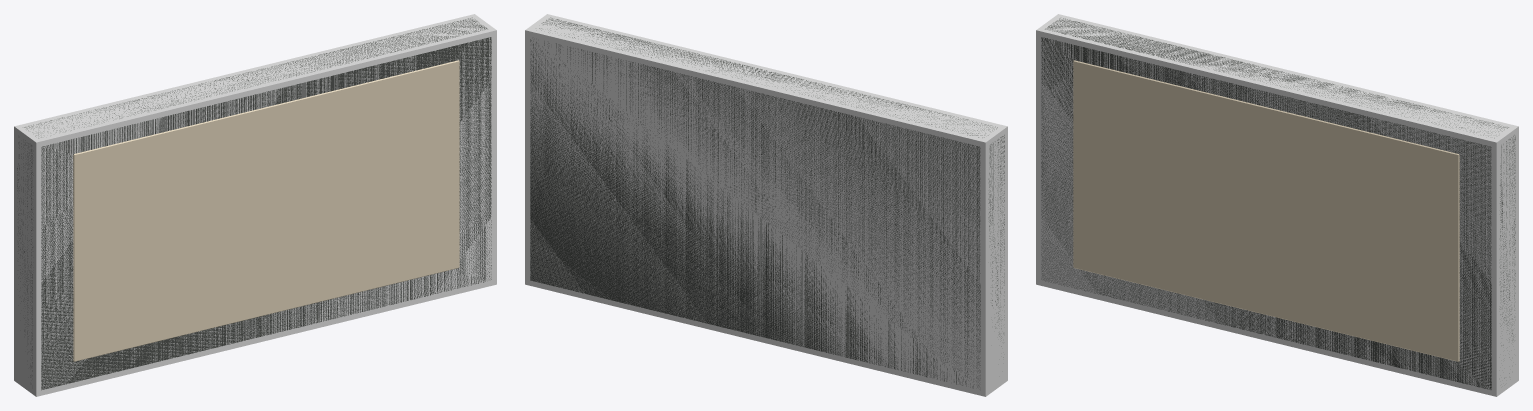
The model's file is signage_basic.glb.
The picture shows the model from 3 angles, left to right: view 1: azimuth 30°, elevation 25°; view 2: azimuth 150°, elevation 25°; view 3: azimuth 330°, elevation 25°; orthographic projection.
Parts seen in each view (by area): view 1: MESH_Inset, COL_signage, MESH_Frame; view 2: COL_signage, MESH_Frame; view 3: MESH_Inset, COL_signage, MESH_Frame.
Part boxes in pixels (x1=…): MESH_Inset: x1=73, y1=60, x2=459, y2=361; COL_signage: x1=14, y1=14, x2=496, y2=396; MESH_Frame: x1=17, y1=17, x2=491, y2=390; COL_signage: x1=525, y1=14, x2=1007, y2=396; MESH_Frame: x1=530, y1=17, x2=1004, y2=388; MESH_Inset: x1=1073, y1=60, x2=1459, y2=361; COL_signage: x1=1036, y1=14, x2=1518, y2=396; MESH_Frame: x1=1041, y1=18, x2=1515, y2=389.
Bounding box in the file's own units: 0.72 × 0.38 × 0.0612.
